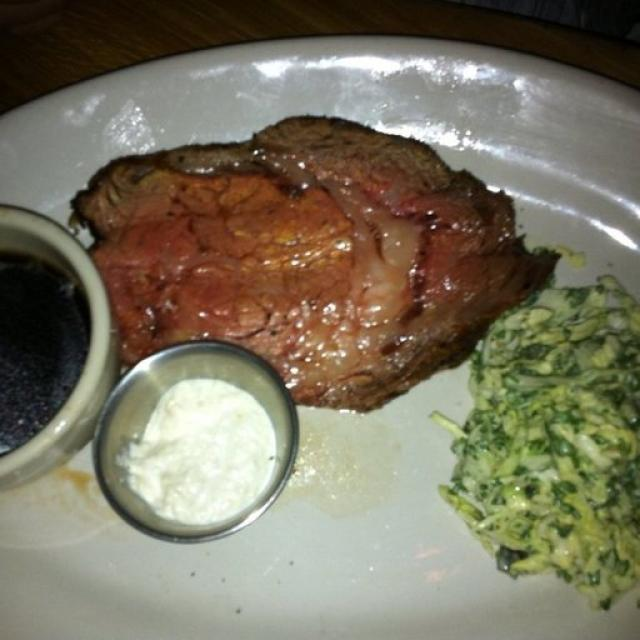Beef: (88, 116, 544, 410)
